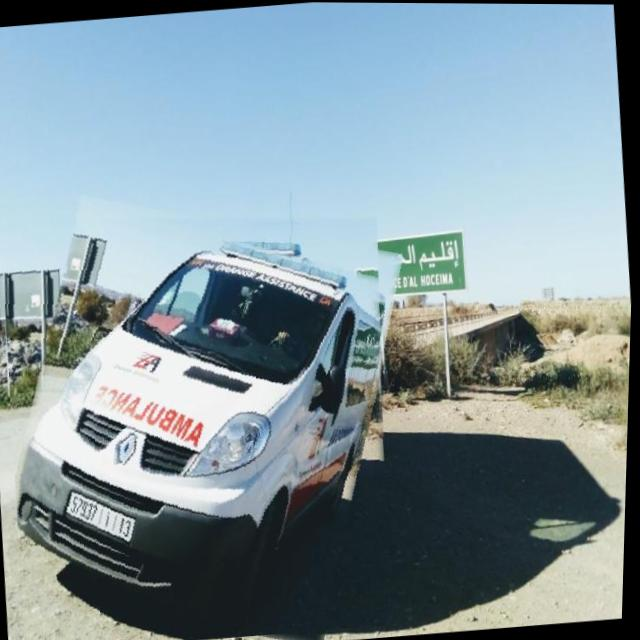ambulance: (0, 186, 415, 640)
